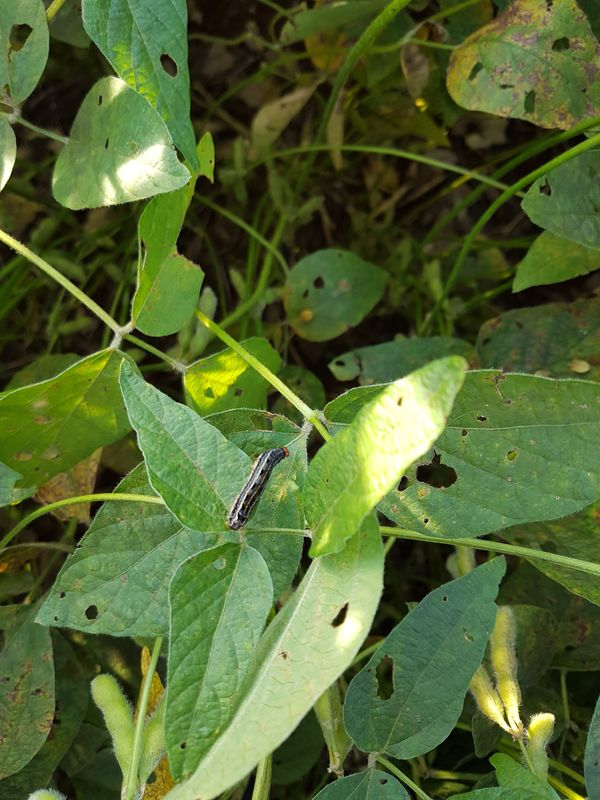Euschistus_heros_ninfa: (563, 352, 594, 380)
Spodoptera_albula: (210, 437, 306, 536)
